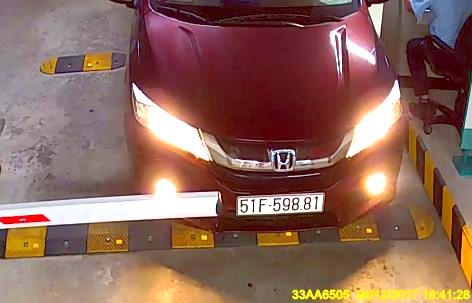plate: (233, 190, 328, 220)
